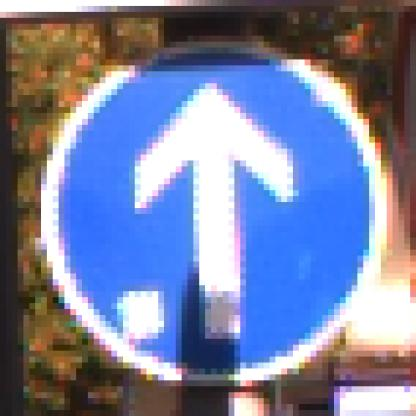AheadOnly: (42, 37, 376, 381)
